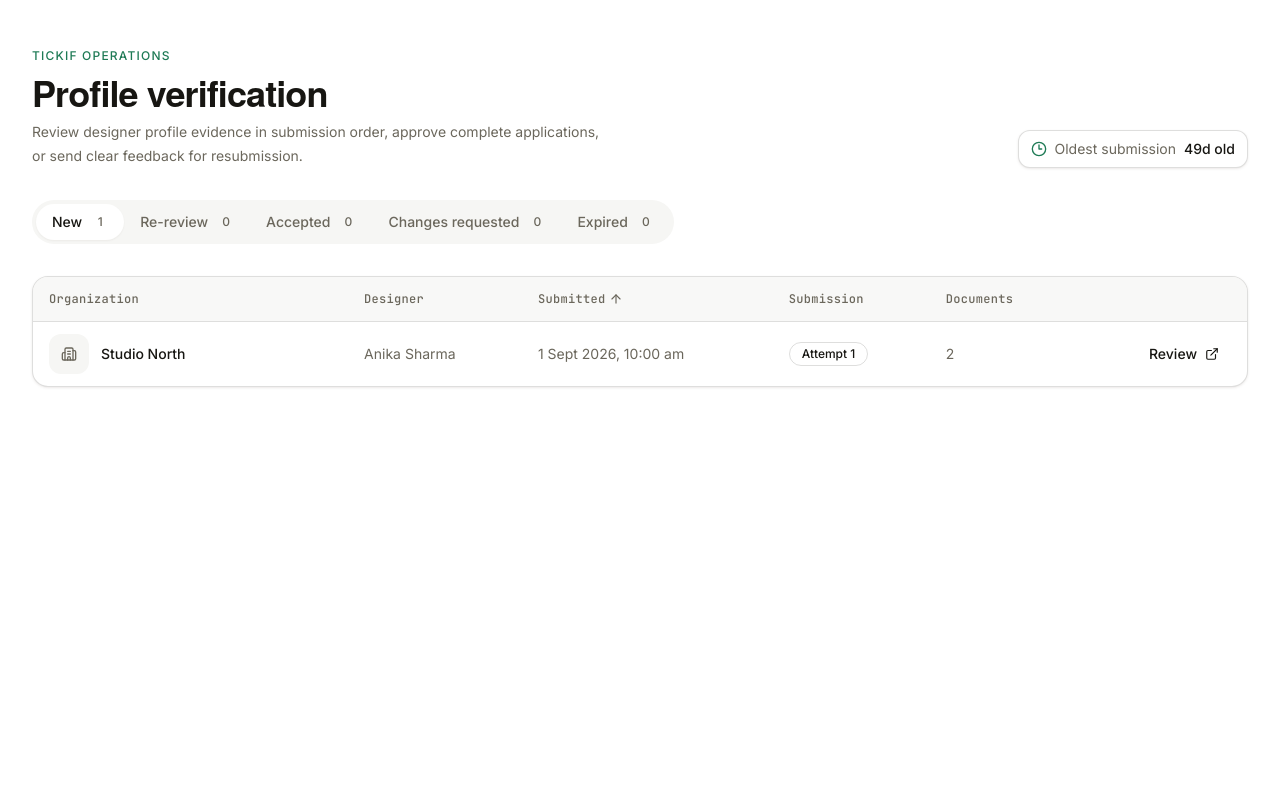
Test: AdminVerificationQueue › confirms approval and removes the reviewed application from the pending queue
The image size is (1280, 800).
Step 1. Click the button with aria-label "open verification for studio north" → point(1184, 354), box [1137,336,1231,372]
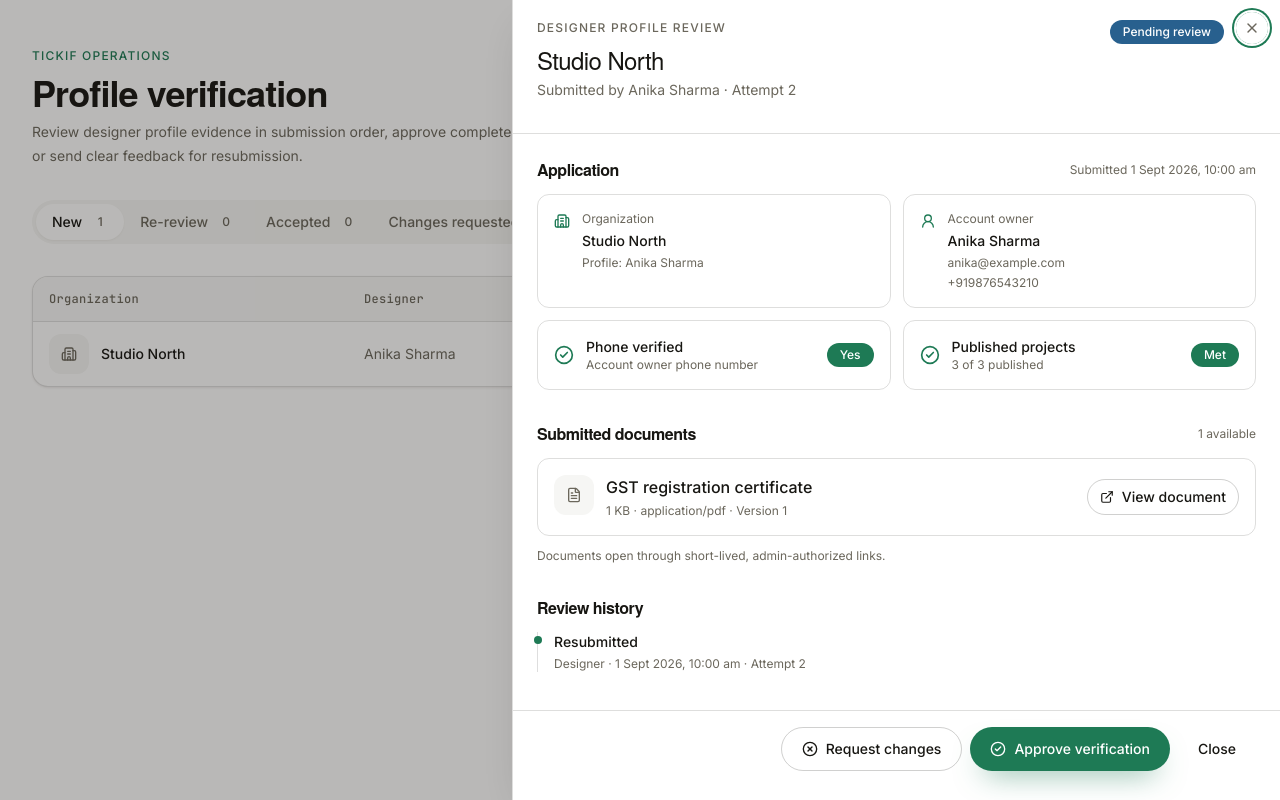
Step 2. Click the button "Approve verification" → point(1070, 749), box [970,727,1170,771]
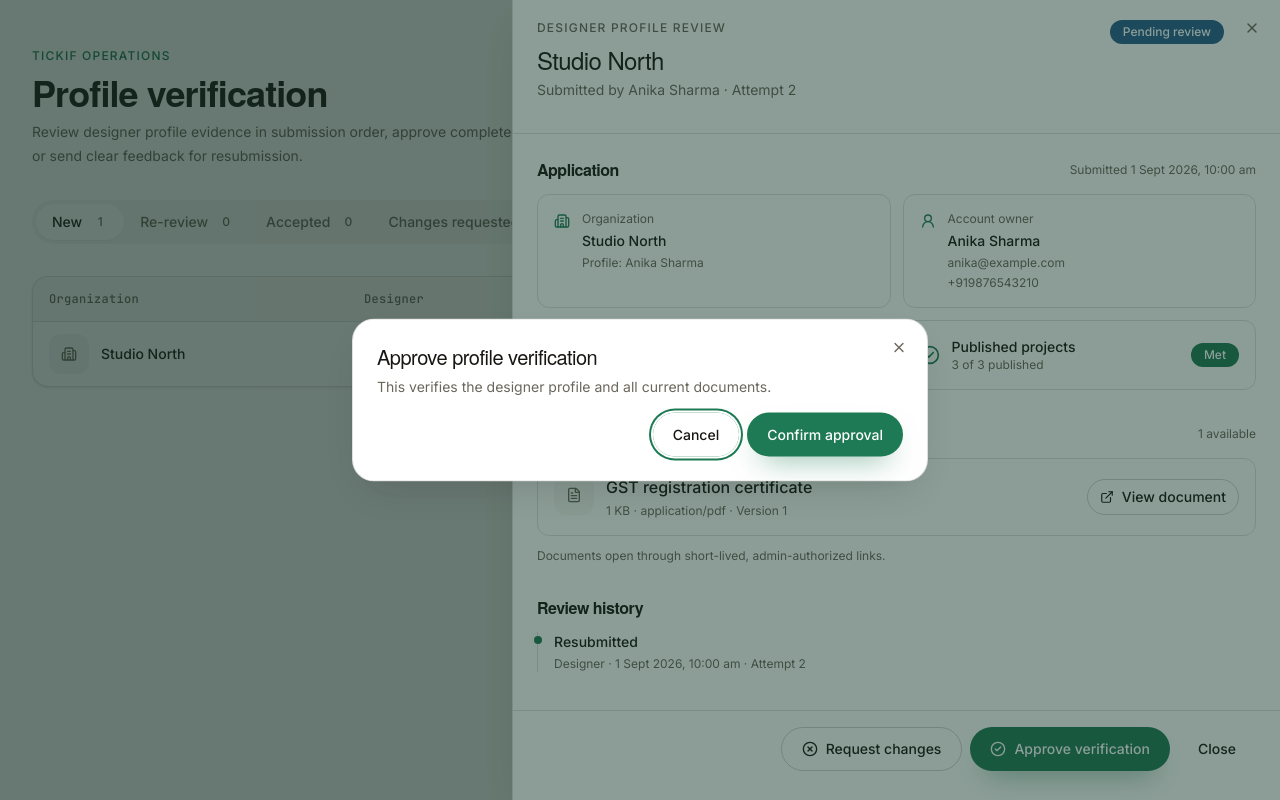
Step 3. Click the button "Confirm approval" → point(825, 434), box [747,412,903,456]
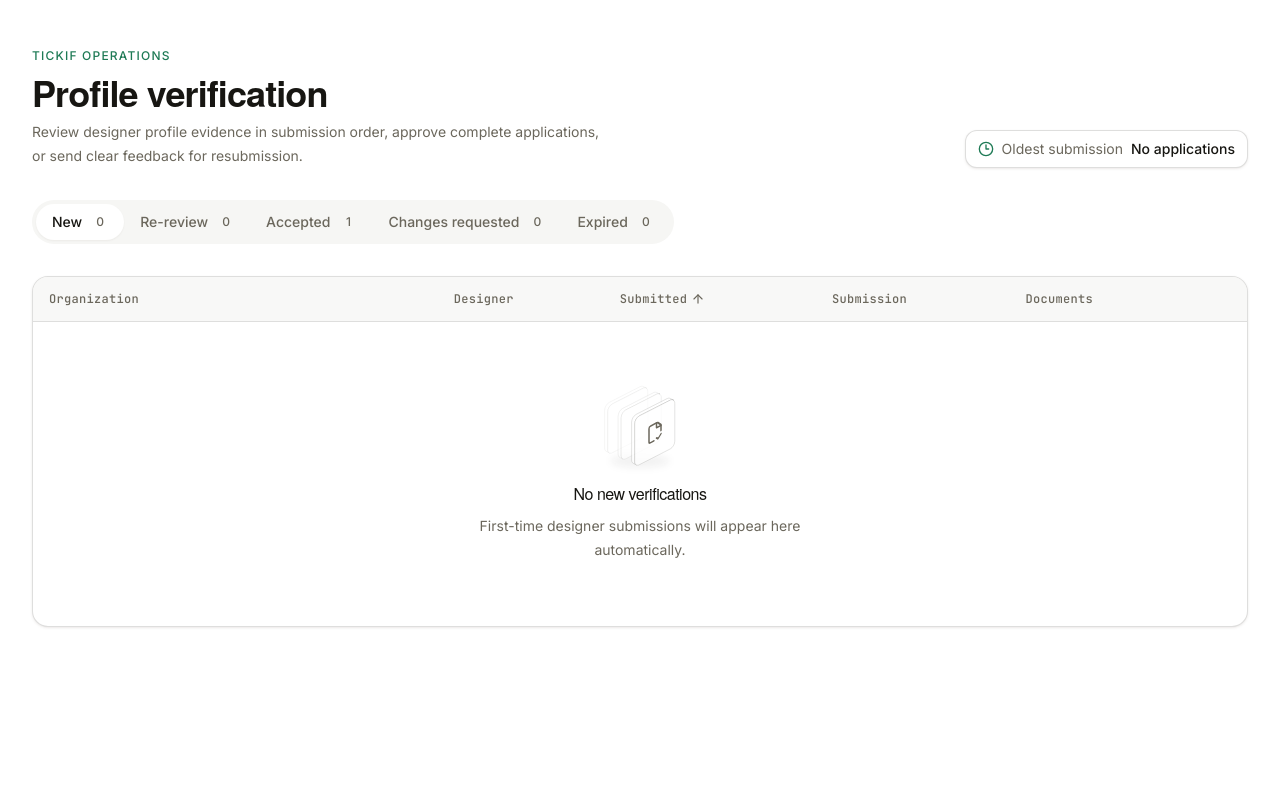
Expected: the text "Studio North" is gone
Expected: the heading "No new verifications" is shown, [574,482,707,506]
